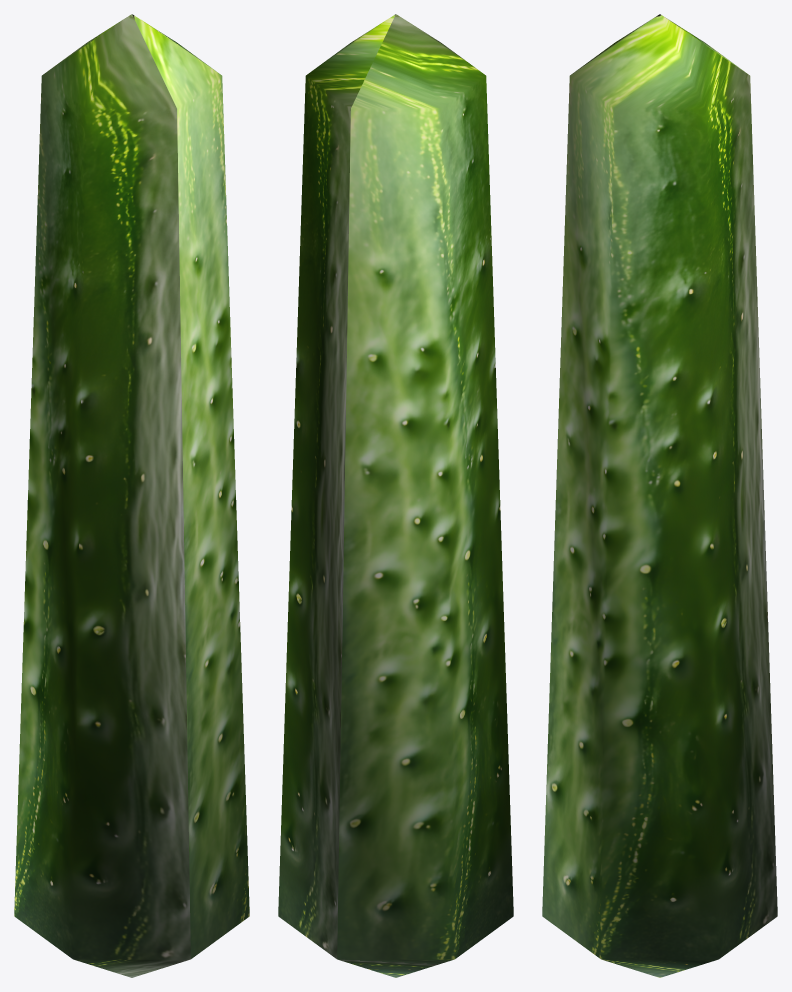
File: Pepino.fbx
The picture shows the model from 3 angles, left to right: view 1: azimuth 30°, elevation 25°; view 2: azimuth 150°, elevation 25°; view 3: azimuth 270°, elevation 25°; orthographic projection.
Parts seen in each view (by area): view 1: Pepino; view 2: Pepino; view 3: Pepino.
Boxes of the visible parts, bbox=[...] form: Pepino: bbox=[14, 14, 249, 977]; Pepino: bbox=[278, 14, 513, 977]; Pepino: bbox=[542, 14, 777, 977].
Bounding box in the file's own units: 5.29 × 27.56 × 6.11.
